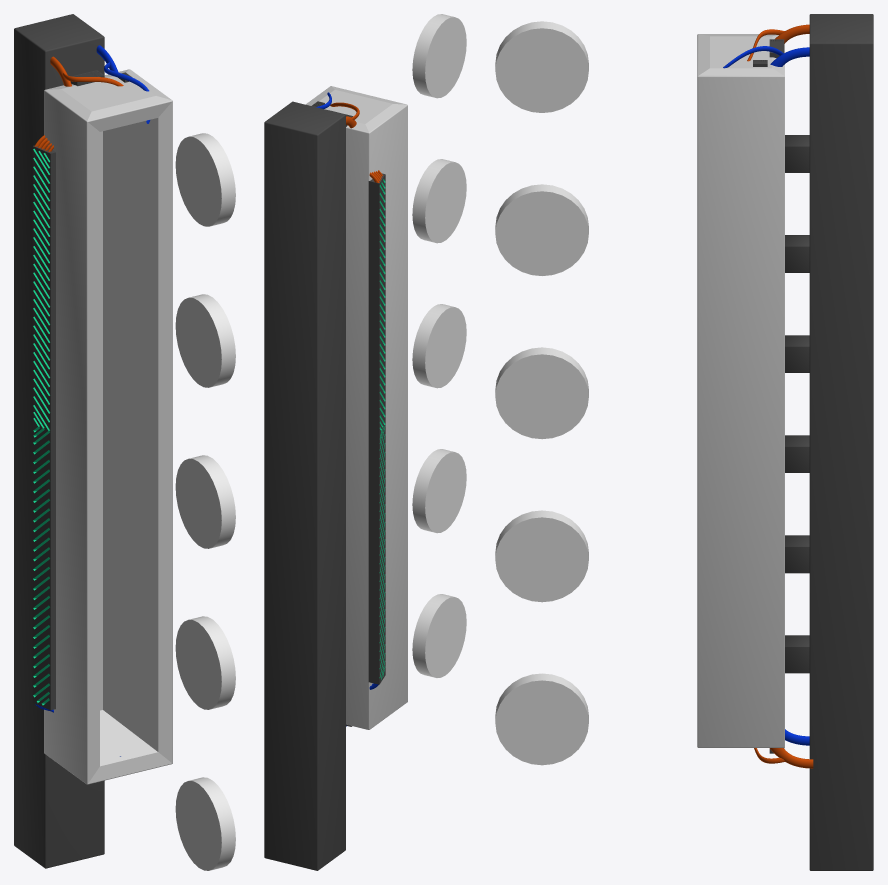
The model's file is звук.FBX.
3 renders of one model, left to right at view 1: azimuth 30°, elevation 25°; view 2: azimuth 150°, elevation 25°; view 3: azimuth 270°, elevation 25°, orthographic. The views are drawn at different scales.
Visible parts, largest first — view 1: ChamferBox001, ChamferBox002, Box003, Group001, Object004, Object006, Object002, Object008, Object010, Cylinder026, Cylinder027, Cylinder025 (+2 smaller); view 2: ChamferBox002, ChamferBox001, Box003, Object010, Object002, Object004, Object006, Object008, Group001, Cylinder025, Cylinder026, Cylinder027 (+2 smaller); view 3: ChamferBox001, ChamferBox002, Cylinder028, Cylinder029, Cylinder026, Cylinder027, Cylinder025, ChamferBox003, ChamferBox004, ChamferBox005, ChamferBox006, ChamferBox007 (+1 smaller).
Part boxes in pixels (x1,y1,x2,y2): ChamferBox001: [44, 69, 172, 784]; ChamferBox002: [14, 14, 104, 868]; Box003: [32, 145, 55, 710]; Group001: [33, 148, 49, 705]; Object004: [175, 458, 221, 548]; Object006: [175, 619, 221, 709]; Object002: [175, 297, 221, 387]; Object008: [175, 781, 221, 870]; Object010: [175, 136, 221, 226]; Cylinder026: [189, 294, 235, 387]; Cylinder027: [190, 455, 235, 548]; Cylinder025: [189, 133, 235, 226]; ChamferBox002: [264, 101, 345, 870]; ChamferBox001: [306, 86, 407, 729]; Box003: [368, 173, 385, 684]; Object010: [425, 17, 466, 98]; Object002: [425, 162, 466, 243]; Object004: [425, 307, 466, 388]; Object006: [425, 452, 466, 533]; Object008: [425, 597, 466, 677]; Group001: [379, 179, 385, 679]; Cylinder025: [412, 14, 453, 97]; Cylinder026: [412, 159, 453, 242]; Cylinder027: [412, 304, 453, 387]; ChamferBox001: [697, 34, 784, 747]; ChamferBox002: [809, 14, 873, 870]; Cylinder028: [495, 510, 588, 602]; Cylinder029: [495, 673, 588, 765]; Cylinder026: [495, 184, 588, 275]; Cylinder027: [495, 347, 588, 439]; Cylinder025: [495, 21, 588, 112]; ChamferBox003: [785, 635, 809, 673]; ChamferBox004: [785, 535, 809, 573]; ChamferBox005: [785, 435, 809, 472]; ChamferBox006: [785, 335, 809, 372]; ChamferBox007: [785, 235, 809, 272].
Size of the model in its own units: 15.71 by 126 by 52.16.
